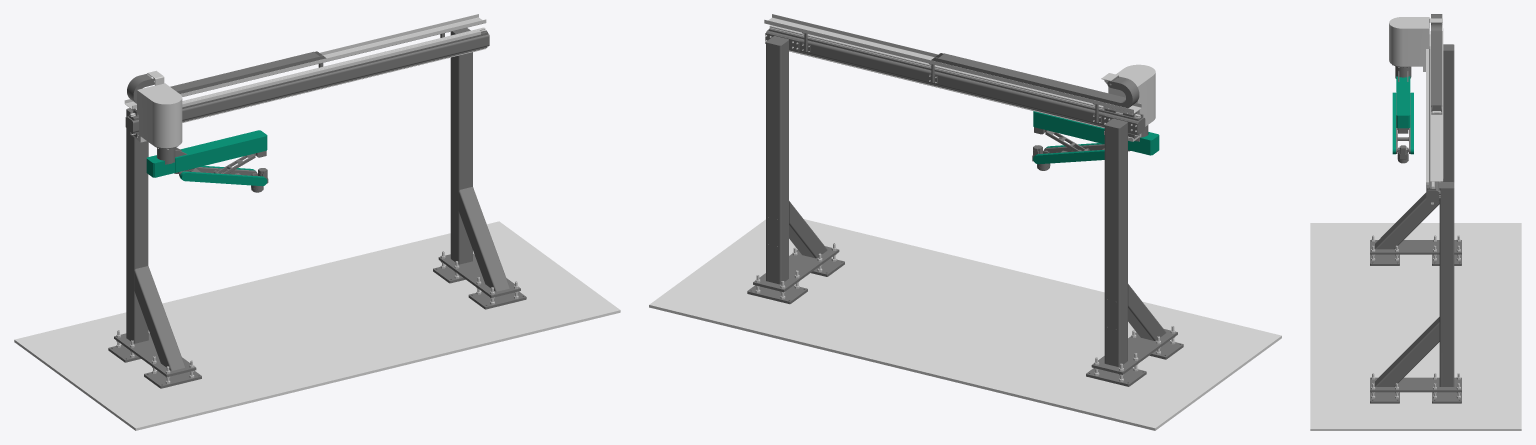
The model's file is CRb020H4.gltf.
3 views of the same model, side by side, from view 1: azimuth 30°, elevation 25°; view 2: azimuth 150°, elevation 25°; view 3: azimuth 270°, elevation 25° (orthographic). The views are drawn at different scales.
Visible parts, largest first — view 1: CRb020H4_prt0; view 2: CRb020H4_prt0; view 3: CRb020H4_prt0.
Boxes of the visible parts, <box> form: CRb020H4_prt0: <box>14,14,620,430</box>; CRb020H4_prt0: <box>649,14,1281,430</box>; CRb020H4_prt0: <box>1310,14,1521,430</box>.
Size of the model in its own units: 4.08 by 2.26 by 1.77.
Materials: 4 (1 with a texture image).
